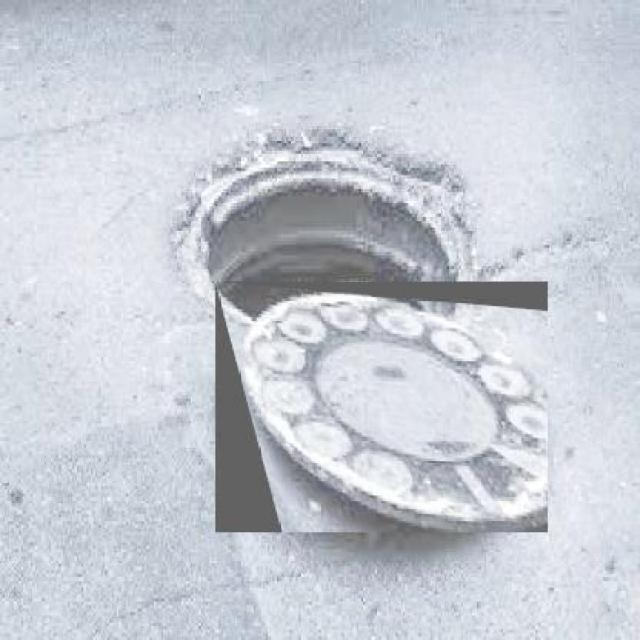Manhole: (215, 282, 548, 532)
Open Manhole: (158, 128, 556, 538)
